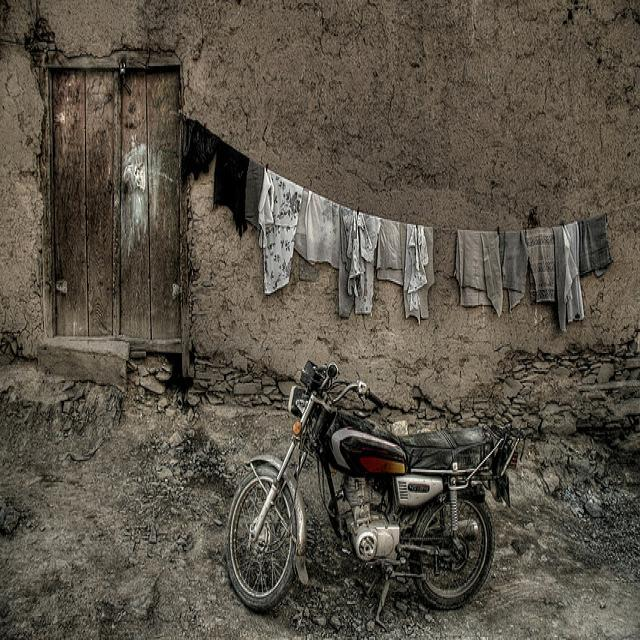motor: (225, 358, 519, 636)
